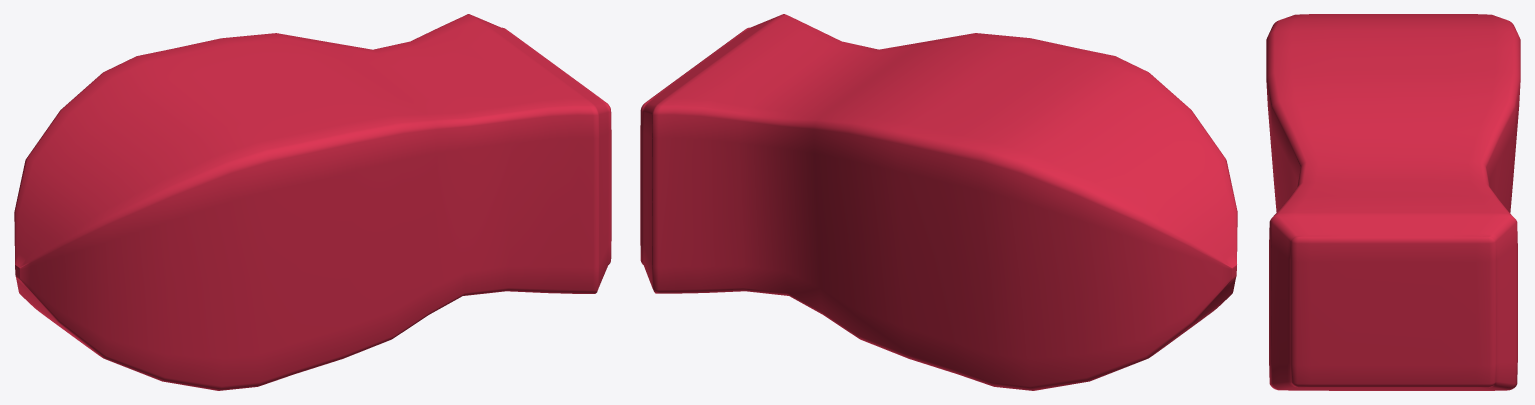
The model's file is Killer2.FBX.
3 views of the same model, side by side, from view 1: azimuth 30°, elevation 25°; view 2: azimuth 150°, elevation 25°; view 3: azimuth 270°, elevation 25° (orthographic). The views are drawn at different scales.
Parts seen in each view (by area): view 1: ChamferBox001; view 2: ChamferBox001; view 3: ChamferBox001.
Part boxes in pixels (box(x1,y1,x2,y2)): ChamferBox001: box(14, 14, 611, 390); ChamferBox001: box(640, 14, 1237, 390); ChamferBox001: box(1266, 14, 1520, 390).
Bounding box in the file's own units: 293 × 128 × 126.
Materials: 1 (1 with a texture image).
